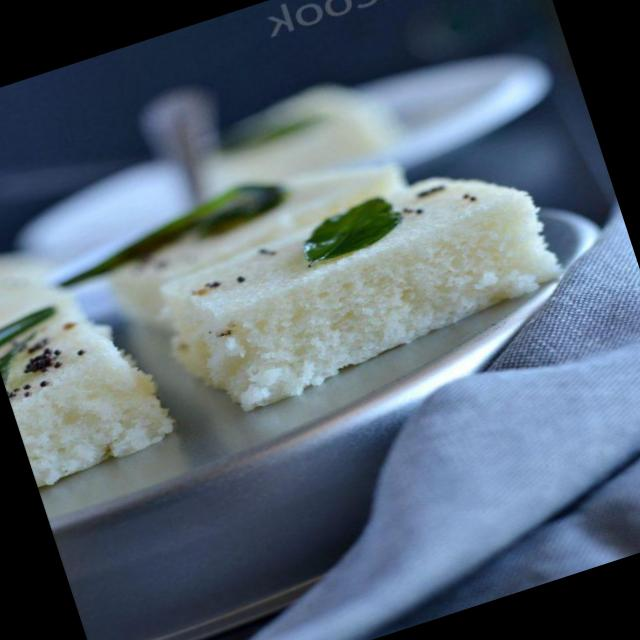dhokla: (118, 126, 560, 444), (0, 240, 155, 485)
